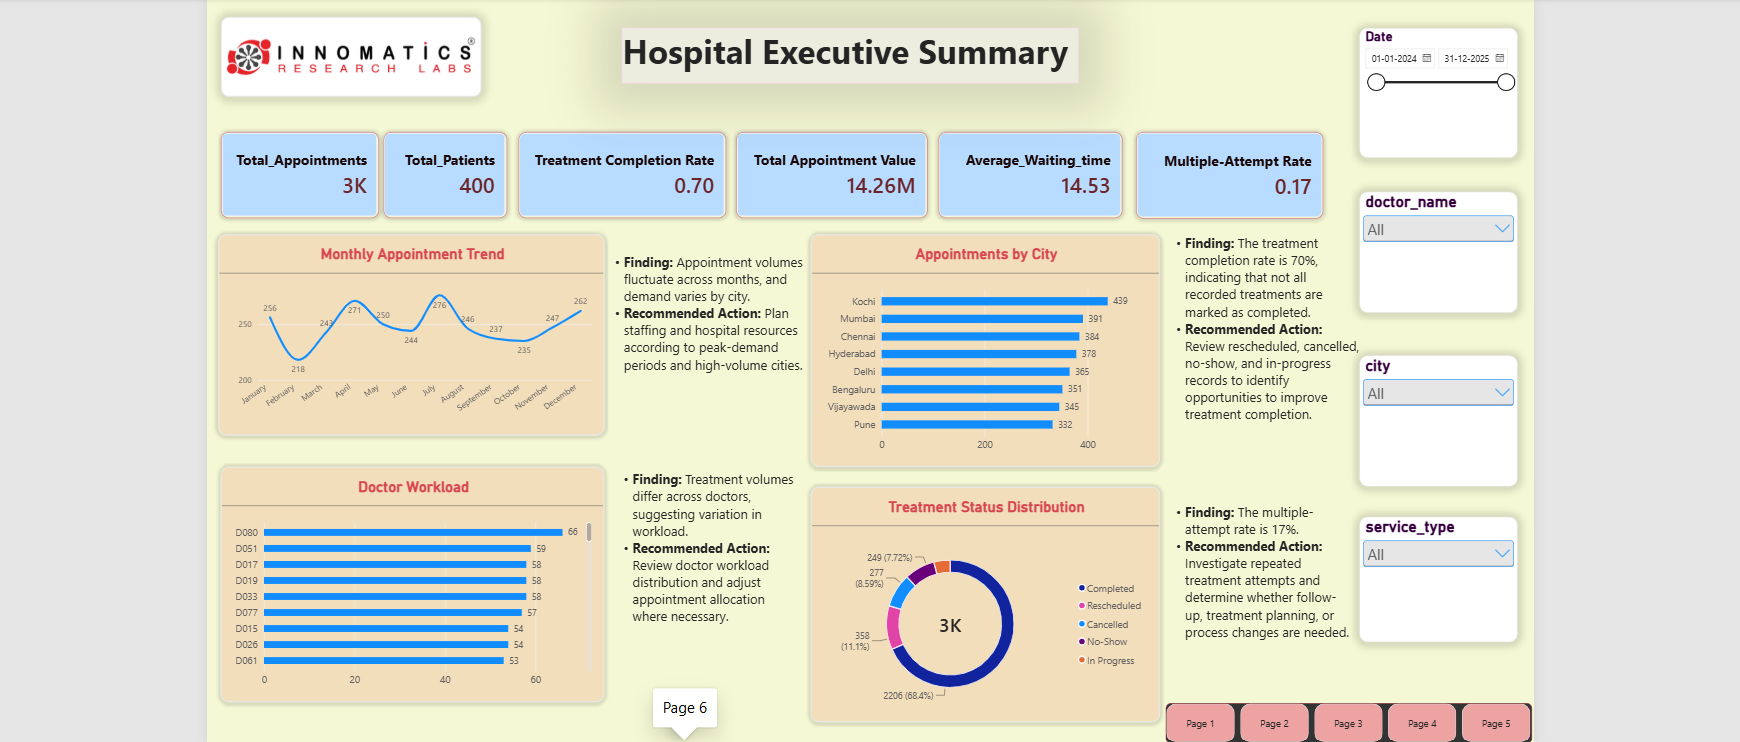

The dashboard page shown, as its layout file describes it:
{"tool":"powerbi","page":{"name":"Page 6","canvas":[1920,1080],"ordinal":5},"visuals":[{"type":"cardVisual","fields":{"Data":["treatments.Total_Appointments"]},"box":[20.6,194.1,229.3,126],"z":0},{"type":"cardVisual","fields":{"Data":["treatments.Total_Patients"]},"box":[256,194.1,179.6,125.9],"z":1000},{"type":"cardVisual","fields":{"Data":["treatments.Treatment Completion Rate"]},"box":[450.1,194.1,301.4,125.9],"z":2000},{"type":"cardVisual","fields":{"Data":["treatments.Total Appointment Value"]},"box":[765.9,194.1,278.7,125.9],"z":3000},{"type":"cardVisual","fields":{"Data":["appointments.Average_Waiting_time"]},"box":[1058.3,194,267.1,126],"z":4000},{"type":"cardVisual","fields":{"Data":["treatments.Multiple-Attempt Rate"]},"box":[1344,194,272,126],"z":5000},{"type":"lineChart","title":"Monthly Appointment Trend","fields":{"Category":["date_table.Date.Variation.Date Hierarchy.Month","date_table.Date.Variation.Date Hierarchy.Day"],"Y":["treatments.Total_Appointments"]},"box":[16.5,342.7,559.5,291.1],"z":6000},{"type":"clusteredBarChart","title":"Appointments by City","fields":{"Category":["patients.city"],"Y":["treatments.Total_Appointments"]},"box":[873.3,342.7,505.8,336.5],"z":7000},{"type":"barChart","title":"Doctor Workload","fields":{"Category":["doctors.doctor_id"],"Y":["treatments.Total_Treatments"]},"box":[20.6,679.2,555.4,340.6],"z":8000},{"type":"donutChart","title":"Treatment Status Distribution","fields":{"Category":["treatments.status"],"Y":["treatments.Total_Appointments"]},"box":[873.3,708.1,505.8,340.6],"z":9000},{"type":"slicer","fields":{"Values":["date_table.Date"]},"box":[1668.1,43.4,229.2,187.9],"z":10000},{"type":"slicer","fields":{"Values":["patients.city"]},"box":[1668.1,518.2,229.2,189.9],"z":11000},{"type":"textbox","box":[600.8,43.4,660.5,79.6],"z":12000},{"type":"slicer","fields":{"Values":["appointments.service_type"]},"box":[1668.1,751.5,229.2,181.7],"z":13000},{"type":"slicer","fields":{"Values":["doctors.doctor_name"]},"box":[1668.1,280.8,229.2,175.5],"z":14000},{"type":"image","box":[20.6,26.8,377.8,115.6],"z":15000},{"type":"textbox","box":[576,369.5,297.3,218.8],"z":16000},{"type":"textbox","box":[1387.4,342.7,280.8,336.5],"z":17000},{"type":"textbox","box":[450,0,151,150],"z":18000},{"type":"textbox","box":[588.4,683.4,272.5,336.5],"z":19000},{"type":"textbox","box":[1387.4,730.8,266.3,317.9],"z":20000},{"type":"pageNavigator","box":[1388,1020.6,530.2,59.7],"z":21000}]}

Visuals, with their boxes on the page's 1920x1080 design canvas (x1, y1, x2, y2). These are canvas units, not pixel positions in the 1740x742 screenshot, which may show the page scaled, cropped or inside an application window:
cardVisual - treatments.Total_Appointments: l=21, t=194, r=250, b=320
cardVisual - treatments.Total_Patients: l=256, t=194, r=436, b=320
cardVisual - treatments.Treatment Completion Rate: l=450, t=194, r=752, b=320
cardVisual - treatments.Total Appointment Value: l=766, t=194, r=1045, b=320
cardVisual - appointments.Average_Waiting_time: l=1058, t=194, r=1325, b=320
cardVisual - treatments.Multiple-Attempt Rate: l=1344, t=194, r=1616, b=320
"Monthly Appointment Trend" lineChart: l=16, t=343, r=576, b=634
"Appointments by City" clusteredBarChart: l=873, t=343, r=1379, b=679
"Doctor Workload" barChart: l=21, t=679, r=576, b=1020
"Treatment Status Distribution" donutChart: l=873, t=708, r=1379, b=1049
slicer - date_table.Date: l=1668, t=43, r=1897, b=231
slicer - patients.city: l=1668, t=518, r=1897, b=708
textbox: l=601, t=43, r=1261, b=123
slicer - appointments.service_type: l=1668, t=752, r=1897, b=933
slicer - doctors.doctor_name: l=1668, t=281, r=1897, b=456
image: l=21, t=27, r=398, b=142
textbox: l=576, t=370, r=873, b=588
textbox: l=1387, t=343, r=1668, b=679
textbox: l=450, t=0, r=601, b=150
textbox: l=588, t=683, r=861, b=1020
textbox: l=1387, t=731, r=1654, b=1049
pageNavigator: l=1388, t=1021, r=1918, b=1080
